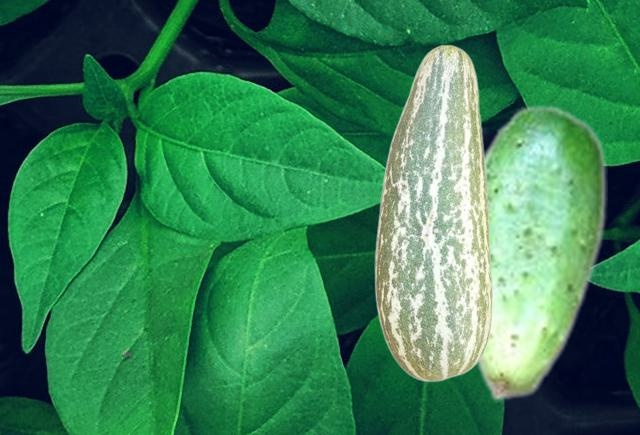cucumber: (374, 44, 492, 381), (473, 103, 606, 401)
